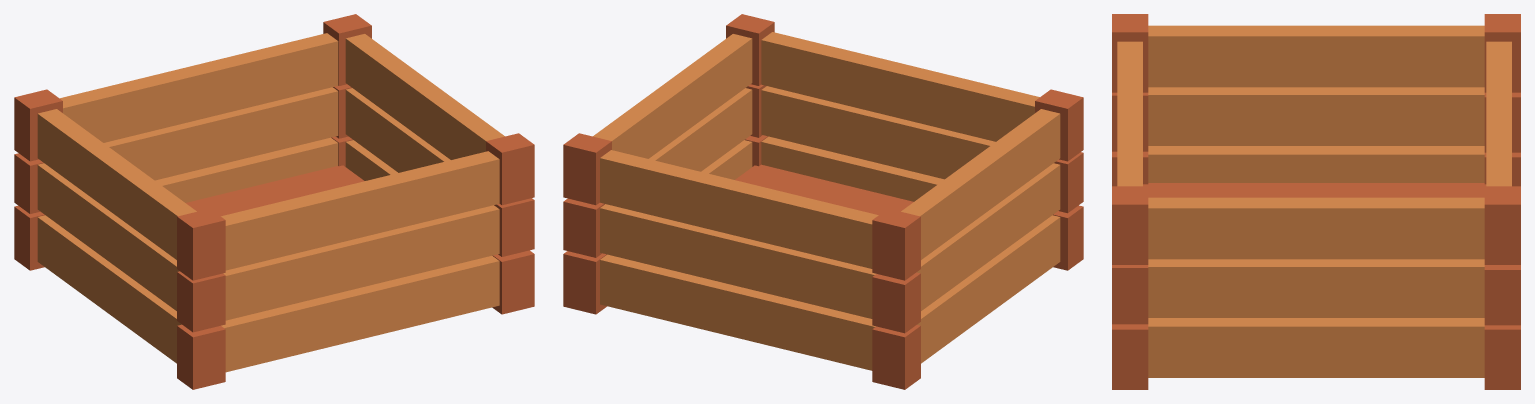
Rendered from skrzynka.gltf.
3 views of the same model, side by side, from view 1: azimuth 30°, elevation 25°; view 2: azimuth 150°, elevation 25°; view 3: azimuth 270°, elevation 25° (orthographic). The views are drawn at different scales.
Visible parts, largest first — view 1: Cube, Cube.014, Cube.002, Cube.001, Cube.013, Cube.006, Cube.011, Cube.008, Cube.007, Cube.003, Cube.012, Cube.005 (+7 smaller); view 2: Cube.014, Cube, Cube.012, Cube.013, Cube.001, Cube.006, Cube.011, Cube.008, Cube.007, Cube.017, Cube.002, Cube.015 (+7 smaller); view 3: Cube.006, Cube.011, Cube.009, Cube.007, Cube.010, Cube.008, Plane, Cube.003, Cube.017, Cube, Cube.014, Cube.016 (+3 smaller).
Boxes of the visible parts, x1=… form: Cube: x1=221, y1=151, x2=499, y2=270; Cube.014: x1=60, y1=33, x2=338, y2=142; Cube.002: x1=221, y1=256, x2=499, y2=372; Cube.001: x1=223, y1=205, x2=499, y2=320; Cube.013: x1=104, y1=87, x2=338, y2=180; Cube.006: x1=37, y1=109, x2=196, y2=259; Cube.011: x1=345, y1=34, x2=504, y2=159; Cube.008: x1=37, y1=215, x2=181, y2=363; Cube.007: x1=37, y1=163, x2=179, y2=310; Cube.003: x1=177, y1=133, x2=534, y2=280; Cube.012: x1=155, y1=137, x2=338, y2=202; Cube.005: x1=177, y1=250, x2=534, y2=389; Cube.014: x1=600, y1=150, x2=878, y2=268; Cube: x1=761, y1=32, x2=1039, y2=141; Cube.012: x1=600, y1=254, x2=875, y2=370; Cube.013: x1=600, y1=204, x2=876, y2=318; Cube.001: x1=761, y1=86, x2=995, y2=179; Cube.006: x1=901, y1=109, x2=1060, y2=259; Cube.011: x1=593, y1=34, x2=752, y2=158; Cube.008: x1=917, y1=215, x2=1060, y2=363; Cube.007: x1=916, y1=163, x2=1060, y2=310; Cube.017: x1=563, y1=133, x2=920, y2=280; Cube.002: x1=761, y1=136, x2=944, y2=201; Cube.015: x1=563, y1=251, x2=920, y2=389; Cube.006: x1=1148, y1=25, x2=1484, y2=87; Cube.011: x1=1148, y1=197, x2=1484, y2=259; Cube.009: x1=1148, y1=318, x2=1484, y2=377; Cube.007: x1=1148, y1=87, x2=1484, y2=145; Cube.010: x1=1148, y1=259, x2=1484, y2=317; Cube.008: x1=1148, y1=146, x2=1484, y2=182; Plane: x1=1143, y1=183, x2=1486, y2=197; Cube.003: x1=1112, y1=14, x2=1148, y2=264; Cube.017: x1=1484, y1=14, x2=1520, y2=264; Cube: x1=1117, y1=41, x2=1142, y2=186; Cube.014: x1=1486, y1=41, x2=1511, y2=186; Cube.016: x1=1484, y1=92, x2=1520, y2=325.
Bounding box in the file's own units: 2.39 × 1.08 × 2.17.
Materials: 1 (1 with a texture image).
